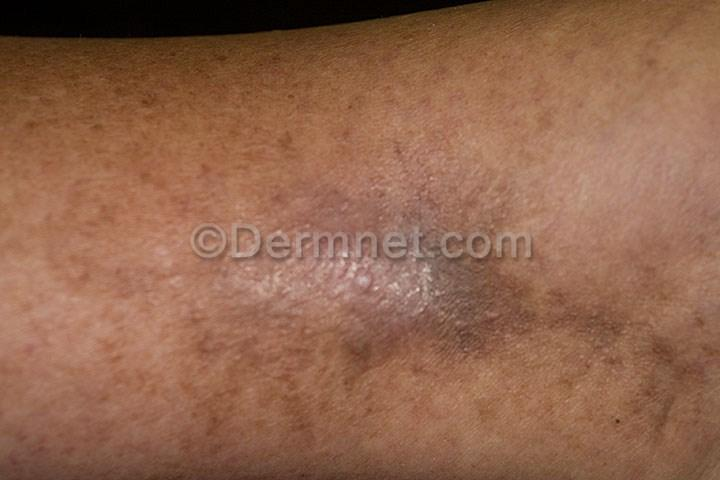Eczema: (254, 76, 489, 229), (215, 257, 461, 400), (39, 103, 188, 296), (453, 262, 585, 394), (591, 284, 694, 424)
